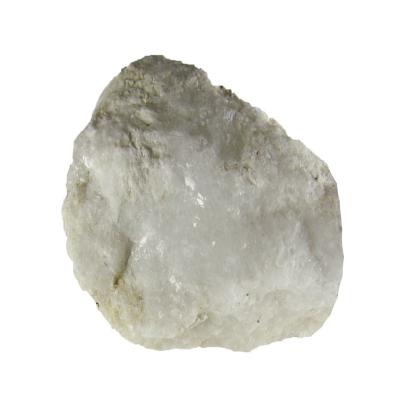Sedimentary_Limestone: (58, 46, 353, 354)
